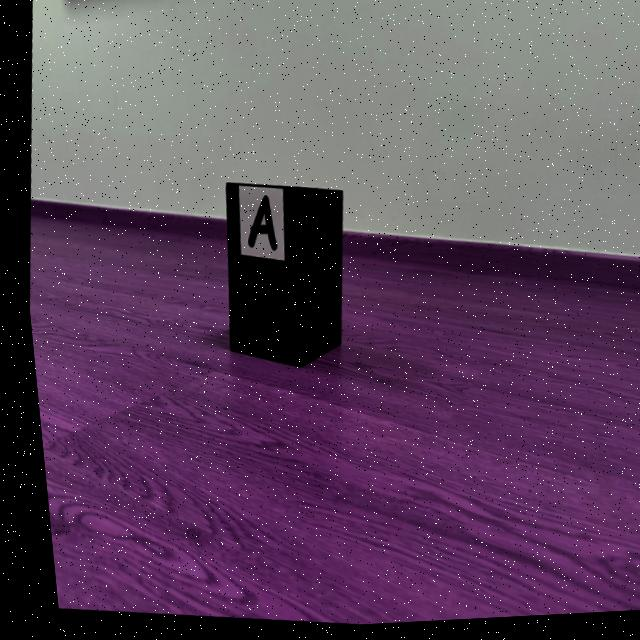A: (243, 198, 272, 252)
